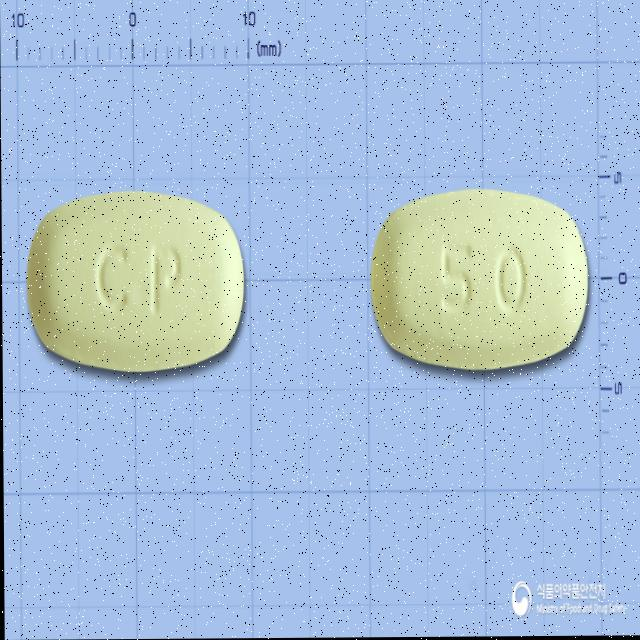Cefick Cap: (26, 189, 245, 375), (372, 188, 590, 369)
